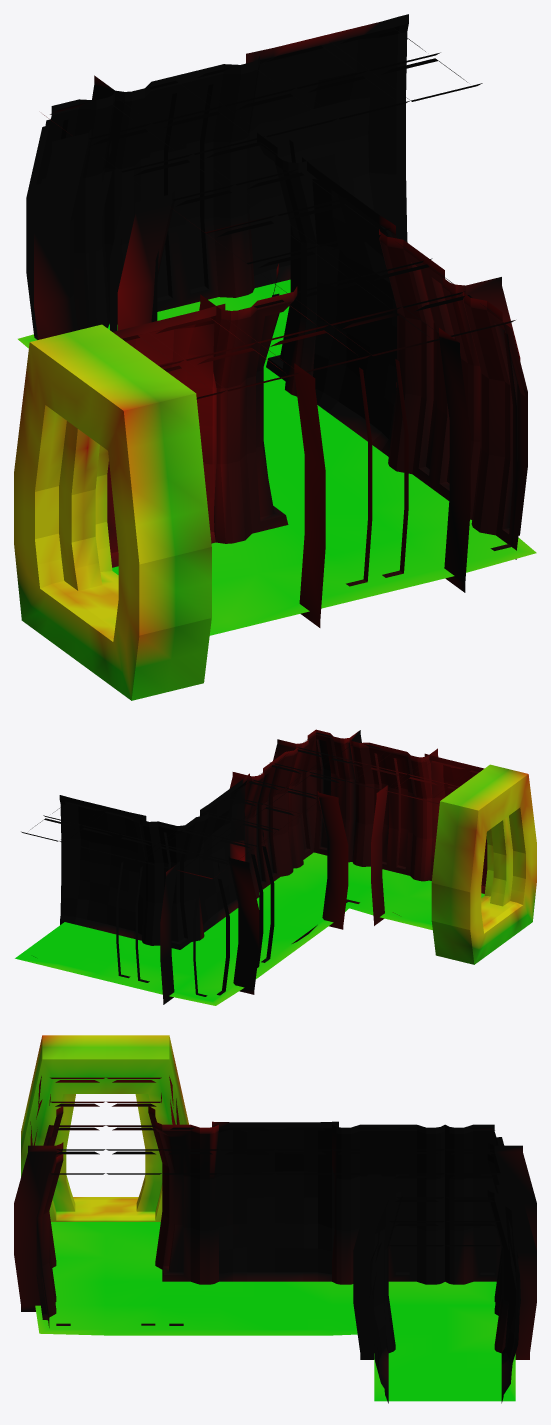
File: corridor_d.glb
3 renders of one model, top to bottom at view 1: azimuth 30°, elevation 25°; view 2: azimuth 150°, elevation 25°; view 3: azimuth 270°, elevation 25°, orthographic. The views are drawn at different scales.
Visible parts, largest first — view 1: Corridor_D_Wall_Panels, Corridor_D_Doorframes, Corridor_D_Stone_Wall, Corridor_D_Floor, Corridor_D_Ceiling; view 2: Corridor_D_Wall_Panels, Corridor_D_Floor, Corridor_D_Doorframes, Corridor_D_Stone_Wall, Corridor_D_Ceiling; view 3: Corridor_D_Wall_Panels, Corridor_D_Floor, Corridor_D_Stone_Wall, Corridor_D_Doorframes, Corridor_D_Ceiling.
Part boxes in pixels (x1,y1,x2,y2): Corridor_D_Wall_Panels: [26, 56, 527, 627]; Corridor_D_Doorframes: [14, 324, 211, 700]; Corridor_D_Stone_Wall: [107, 14, 408, 567]; Corridor_D_Floor: [18, 279, 536, 635]; Corridor_D_Ceiling: [43, 27, 515, 399]; Corridor_D_Wall_Panels: [116, 729, 438, 1004]; Corridor_D_Floor: [15, 852, 484, 1005]; Corridor_D_Doorframes: [431, 764, 536, 964]; Corridor_D_Stone_Wall: [33, 753, 487, 957]; Corridor_D_Ceiling: [21, 732, 479, 878]; Corridor_D_Wall_Panels: [14, 1106, 536, 1359]; Corridor_D_Floor: [35, 1222, 515, 1401]; Corridor_D_Stone_Wall: [30, 1076, 520, 1403]; Corridor_D_Doorframes: [21, 1035, 188, 1221]; Corridor_D_Ceiling: [49, 1077, 500, 1246].
Size of what is drawn, in the model's own units: 8.63 by 3.75 by 9.25.
